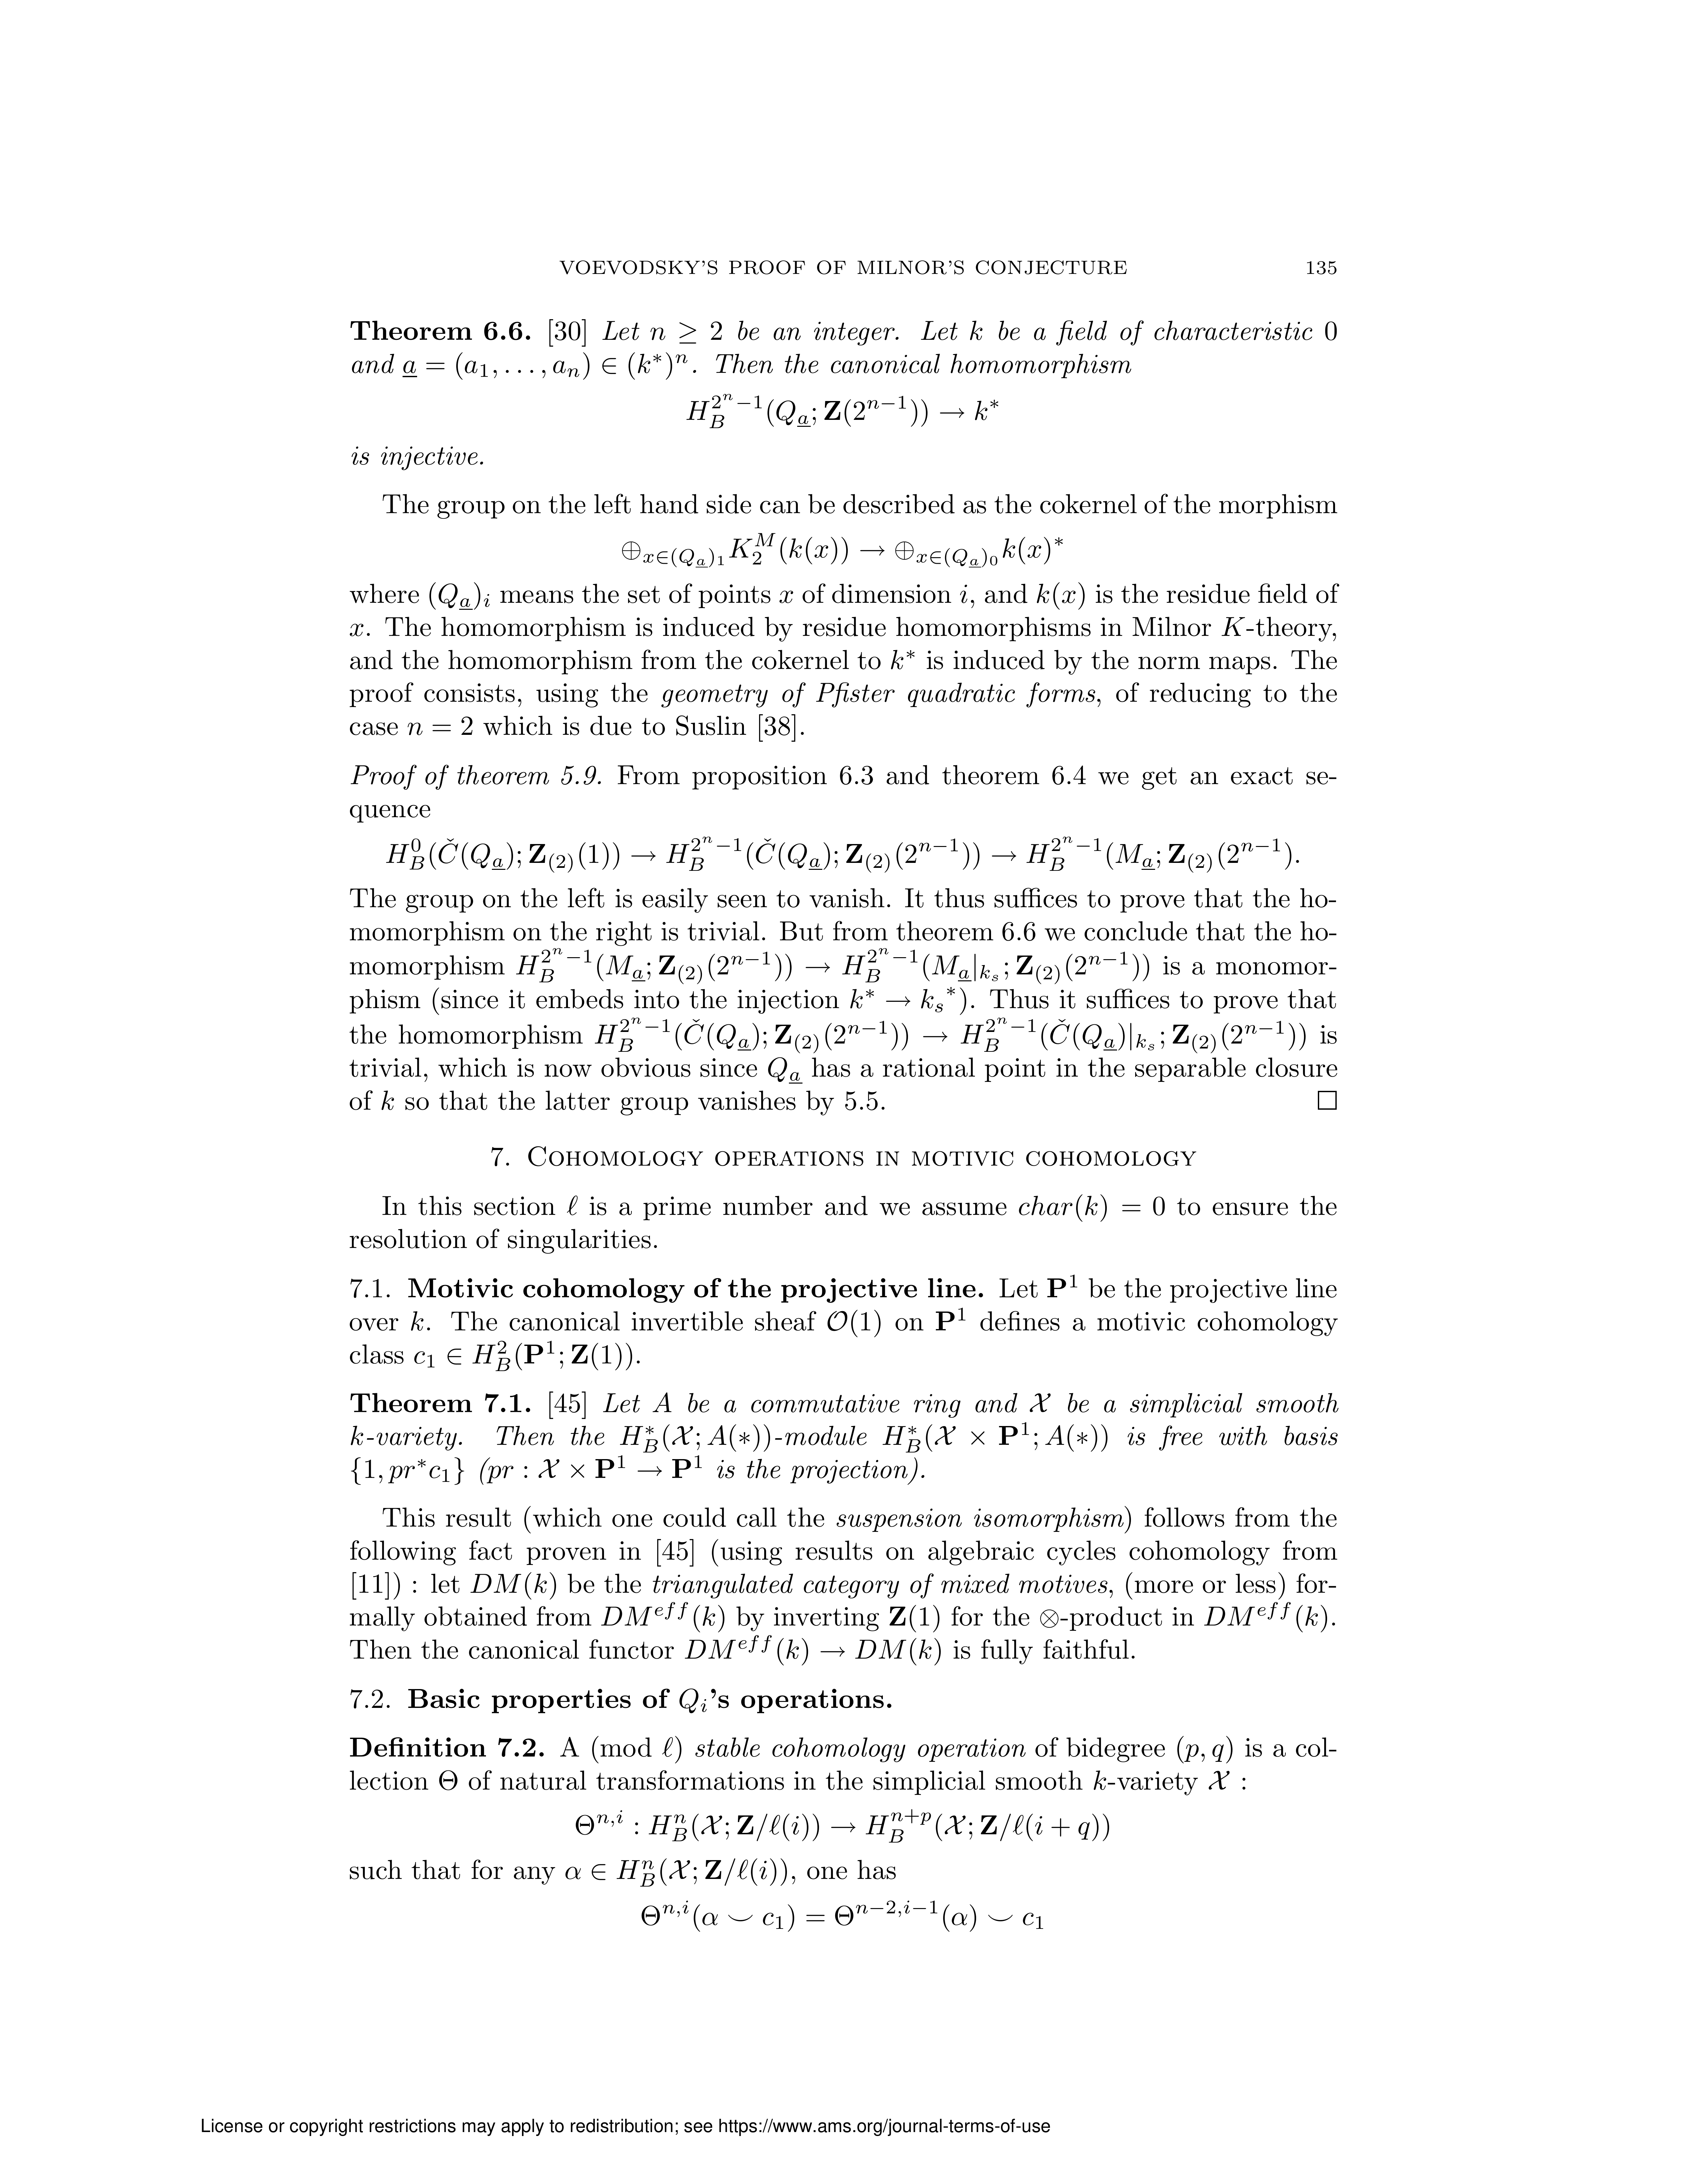expr: (211, 275, 1131, 372), (299, 542, 1046, 631), (248, 713, 1111, 780), (379, 1165, 973, 1250), (305, 1283, 1040, 1349), (326, 1425, 1012, 1491), (480, 1679, 859, 1751), (211, 947, 579, 980), (149, 500, 576, 528), (409, 1087, 780, 1117), (149, 1049, 455, 1081), (826, 947, 1154, 975), (239, 1516, 494, 1546), (195, 1551, 383, 1581), (941, 1053, 1132, 1081), (599, 1383, 801, 1409), (611, 948, 801, 975), (388, 1604, 560, 1633), (149, 1645, 317, 1673), (533, 1053, 698, 1081), (1058, 1604, 1207, 1633), (191, 1611, 353, 1636), (888, 464, 1005, 491), (424, 865, 528, 893), (975, 1018, 1056, 1044), (783, 1606, 879, 1627), (149, 902, 223, 927), (590, 1604, 677, 1626), (906, 865, 976, 888), (477, 464, 546, 487), (379, 1018, 438, 1044), (735, 867, 806, 888), (973, 665, 1021, 693), (408, 401, 416, 415)
